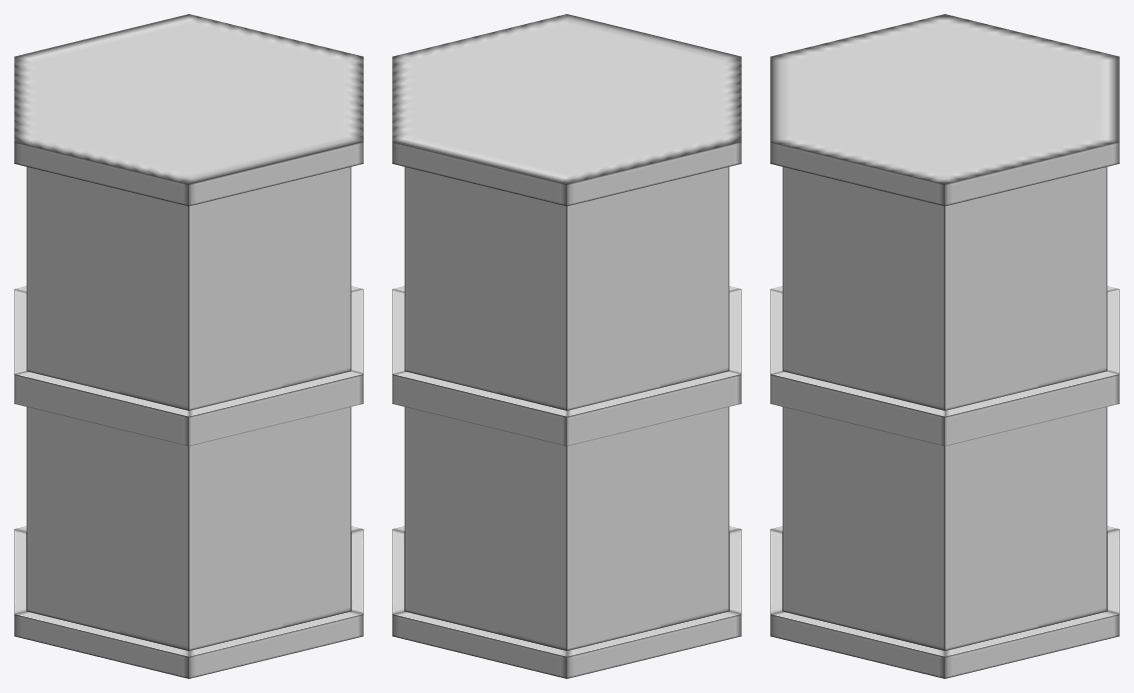
Rendered from Barrel-01.fbx.
3 views of the same model, side by side, from view 1: azimuth 30°, elevation 25°; view 2: azimuth 150°, elevation 25°; view 3: azimuth 270°, elevation 25° (orthographic).
Visible parts, largest first — view 1: Barrel_01; view 2: Barrel_01; view 3: Barrel_01.
Boxes of the visible parts, x1,y1,x2,y2 form: Barrel_01: [14, 14, 363, 678]; Barrel_01: [392, 14, 741, 678]; Barrel_01: [770, 14, 1119, 678].
Size of the model in its own units: 0.3943 by 0.534 by 0.3415.
